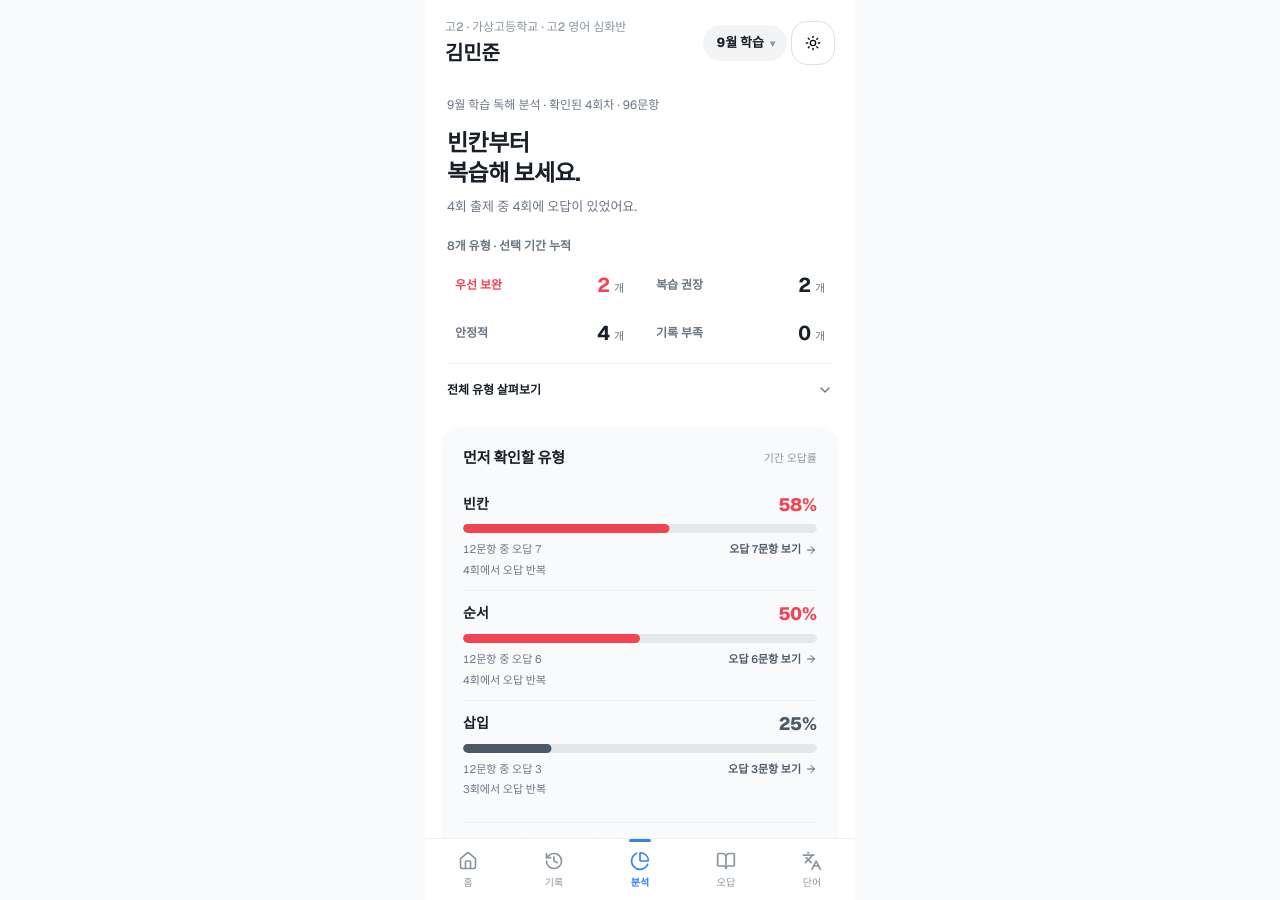
공유 리포트 실제 화면 재사용 › 기간 선택 시 같은 분석 탭에서 새 기간의 모델로 다시 계산한다
This screenshot has width=1280, height=900.
Expected: the element named "먼저 살펴볼 내용" shows "확인된 4회차 · 96문항", [447,97,659,215]
Click the button with aria-label "기간 선택: 9월 학습" at (745, 43), box [703,25,787,61]
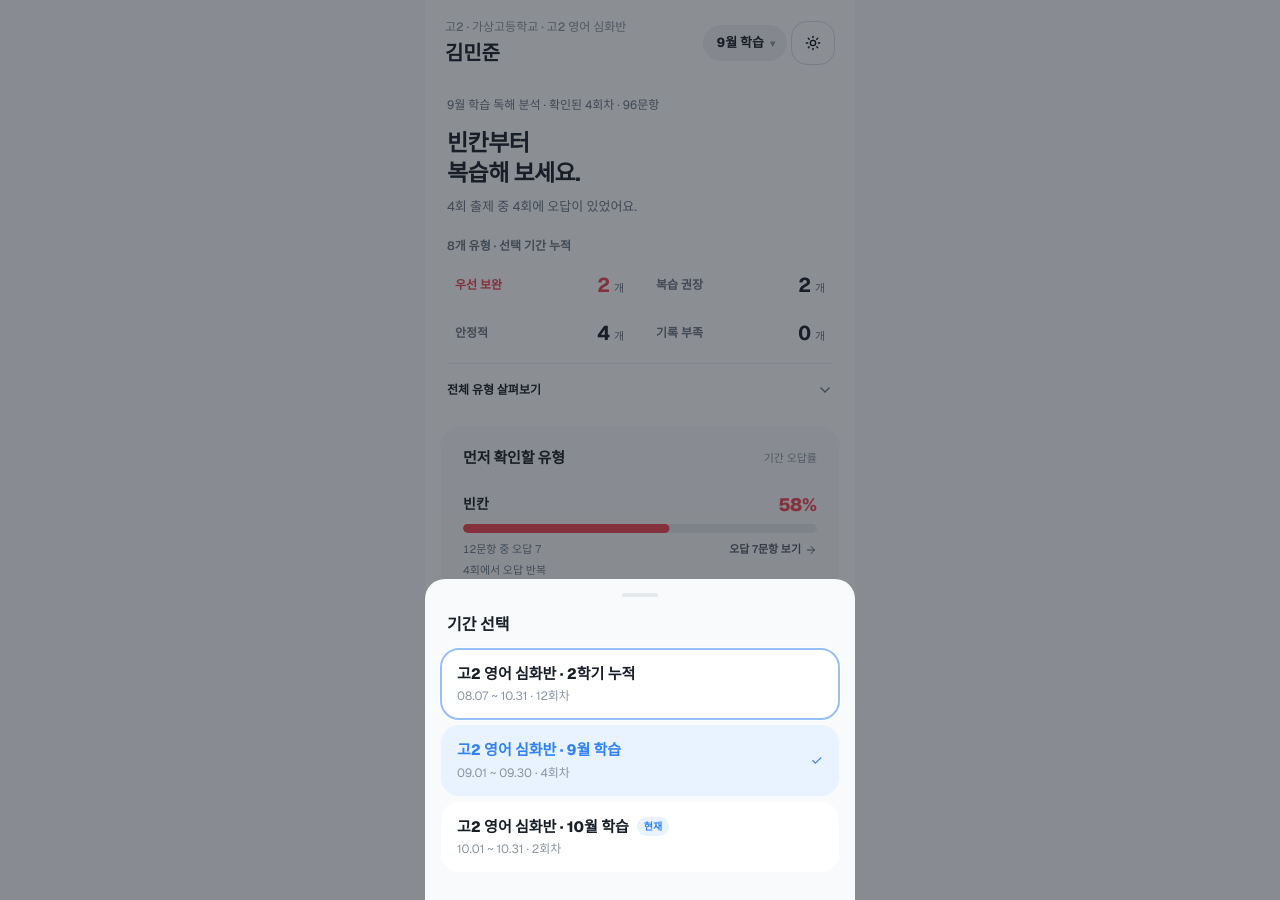
Click the button "고2 영어 심화반 · 10월 학습 현재 10.01 ~ 10.31 · 2회차" at (640, 837), box [441,802,839,872]
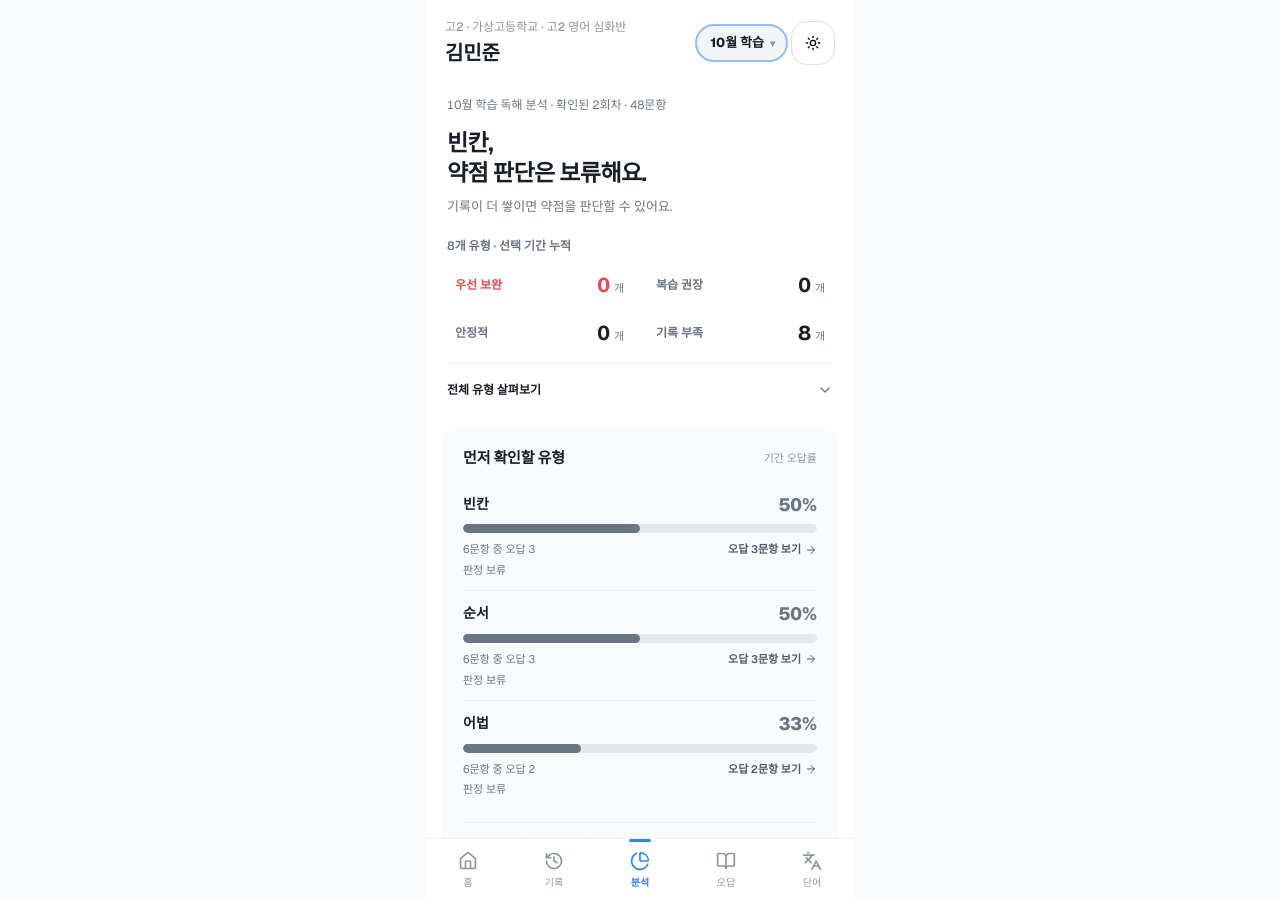
Now the text "기간 선택" is gone
Now the button with aria-label "기간 선택: 10월 학습" is shown, box [696,25,787,61]
Now the element named "먼저 살펴볼 내용" shows "확인된 2회차 · 48문항", box [447,97,672,215]
